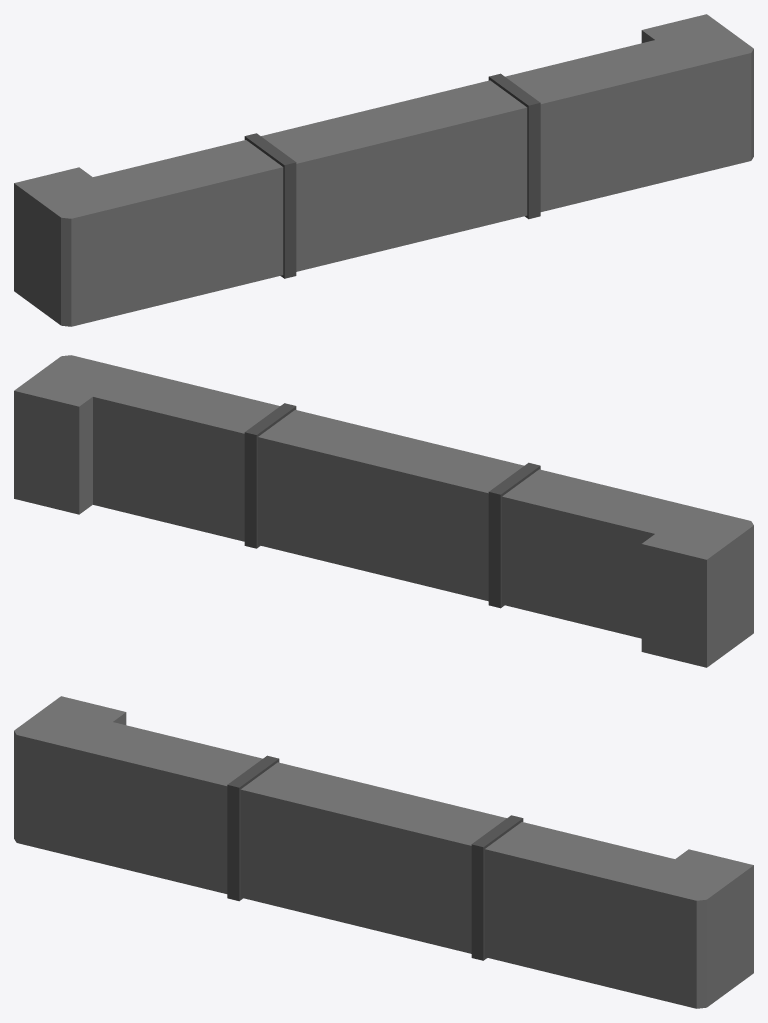
File: HousePart_05.fbx
3 renders of one model, top to bottom at view 1: azimuth 30°, elevation 25°; view 2: azimuth 150°, elevation 25°; view 3: azimuth 330°, elevation 25°, orthographic.
Visible parts, largest first — view 1: HousePart_05; view 2: HousePart_05; view 3: HousePart_05.
Boxes of the visible parts, x1,y1,x2,y2 form: HousePart_05: [14, 14, 753, 326]; HousePart_05: [14, 355, 753, 667]; HousePart_05: [14, 696, 753, 1008].
Bounding box in the file's own units: 268 × 42.06 × 34.99.
